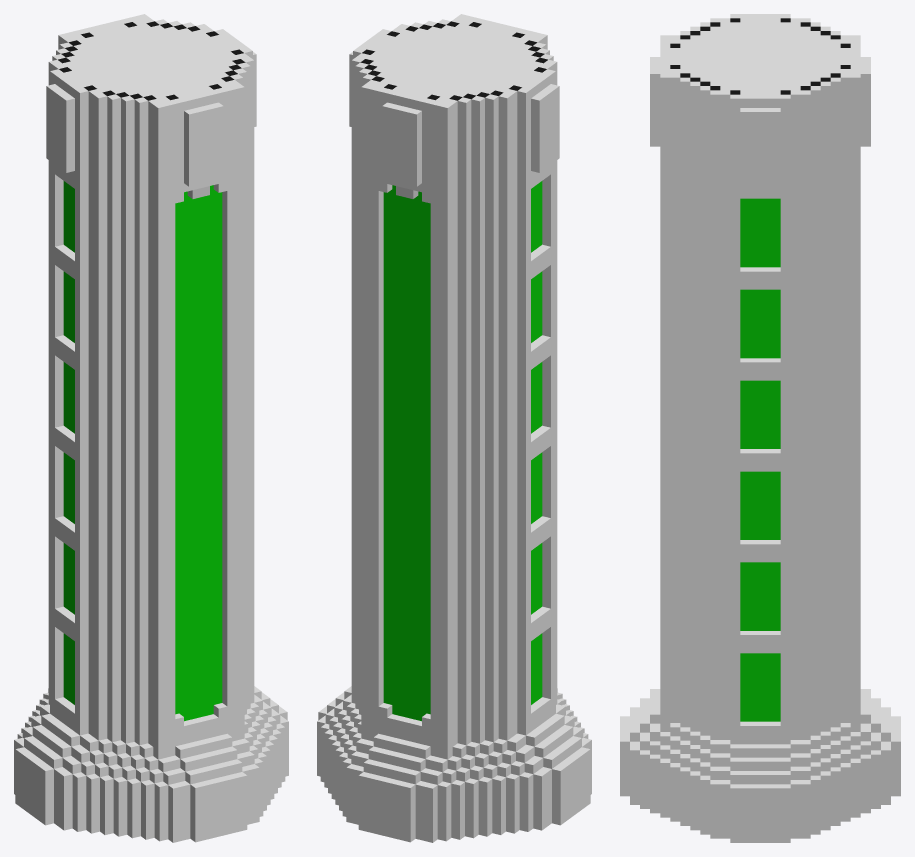
The model's file is piller.fbx.
3 renders of one model, left to right at view 1: azimuth 30°, elevation 25°; view 2: azimuth 150°, elevation 25°; view 3: azimuth 270°, elevation 25°, orthographic.
Visible parts, largest first — view 1: Pillar:Mesh; view 2: Pillar:Mesh; view 3: Pillar:Mesh.
Boxes of the visible parts, x1=… form: Pillar:Mesh: x1=14, y1=14, x2=288, y2=842; Pillar:Mesh: x1=317, y1=14, x2=591, y2=842; Pillar:Mesh: x1=620, y1=14, x2=900, y2=842.
Size of the model in its own units: 28 by 80 by 28.
1 material, 1 textured.
